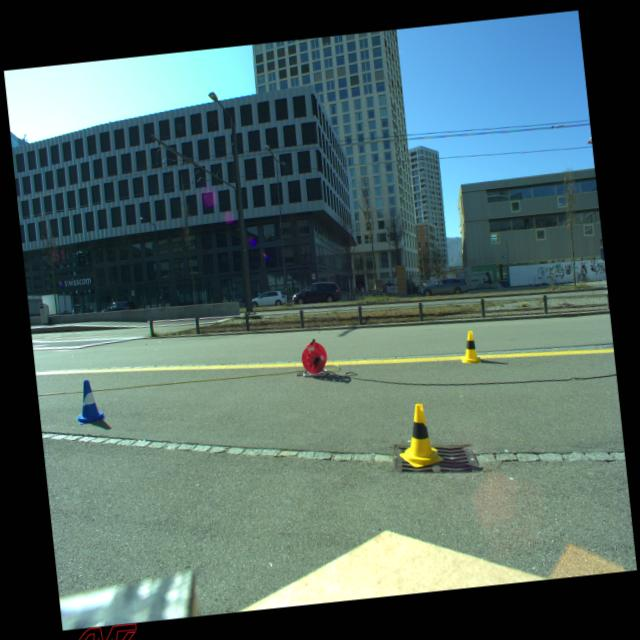blue_cone: (72, 378, 106, 424)
yellow_cone: (394, 401, 444, 469), (458, 330, 481, 364)
